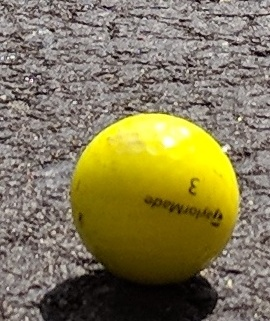ball: (70, 113, 241, 282)
